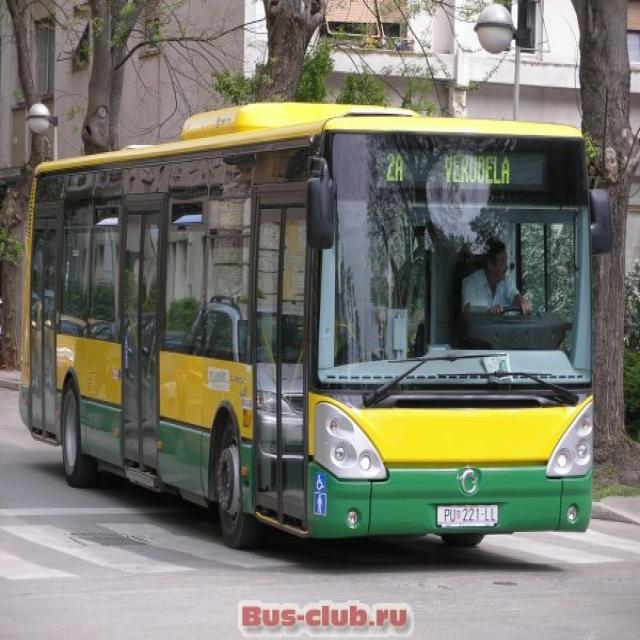bus: (21, 100, 599, 560)
